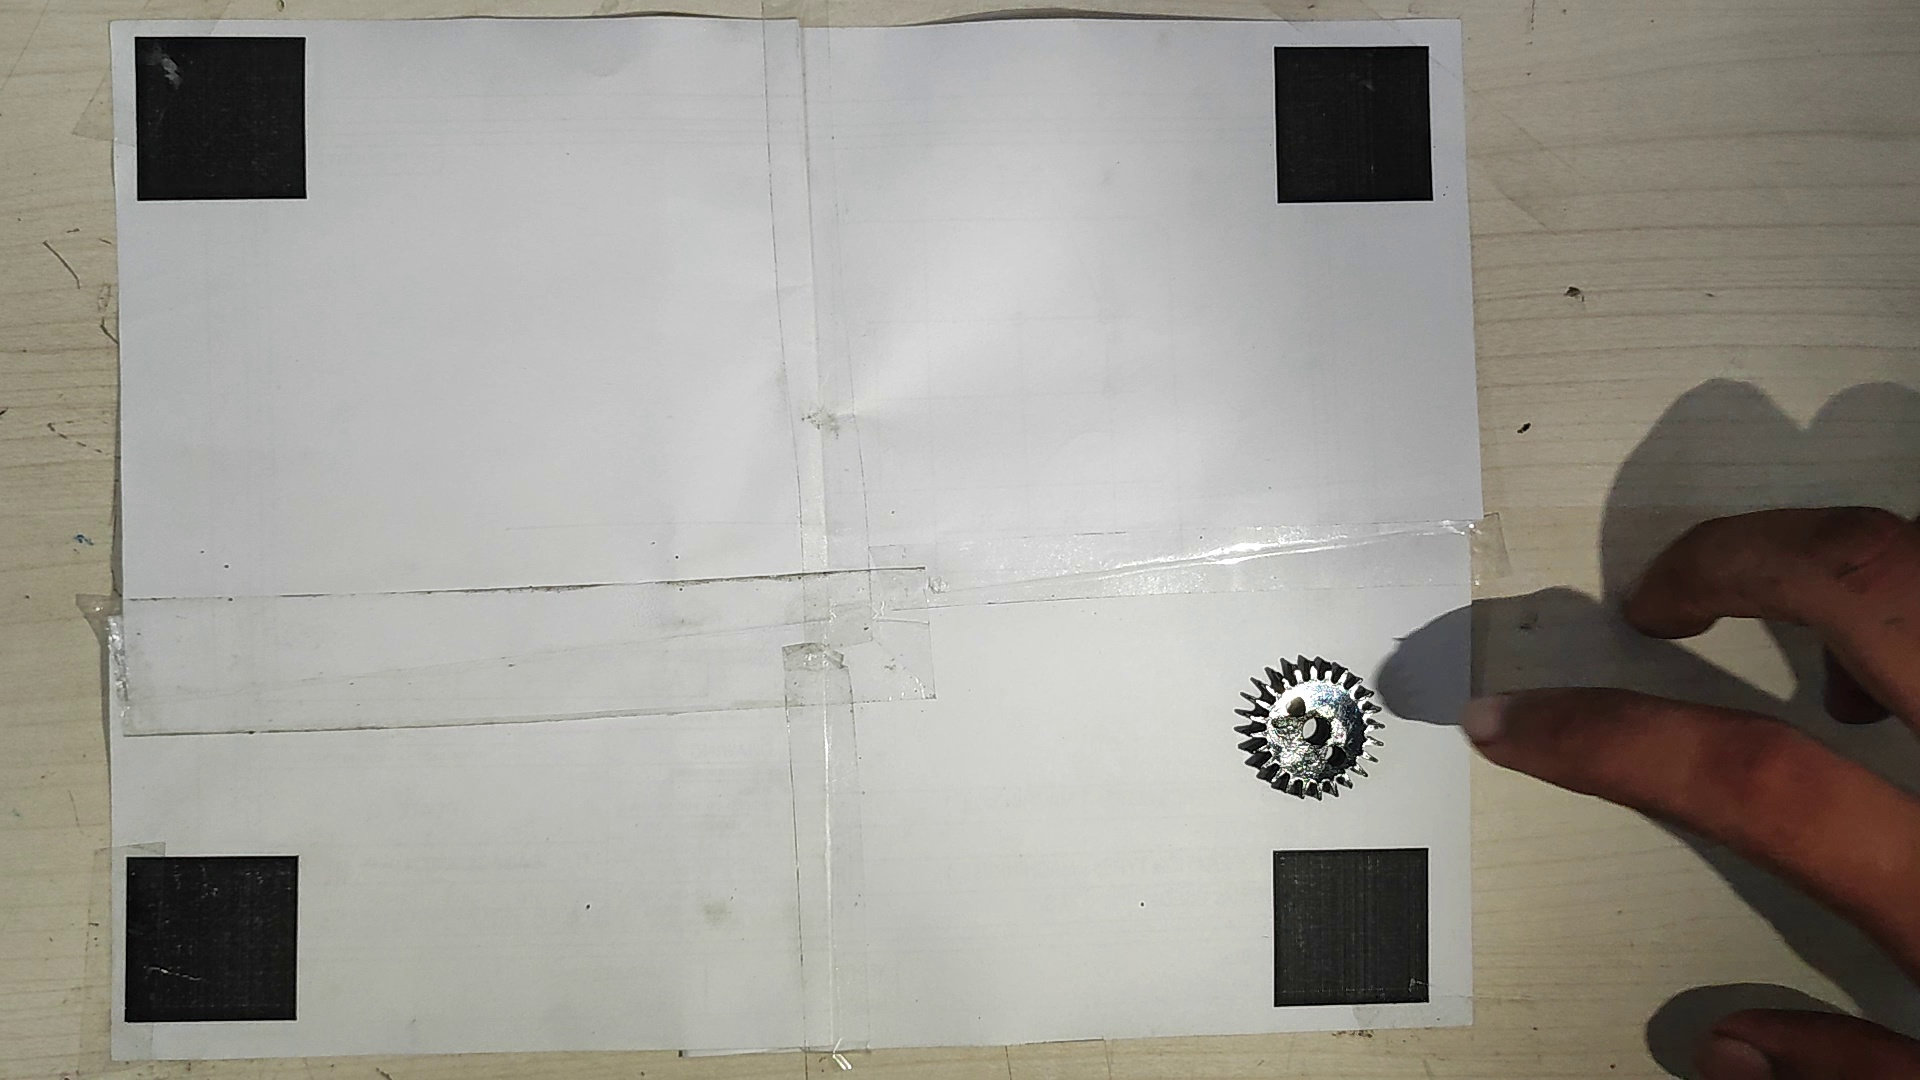Gear: (1234, 649, 1391, 803)
